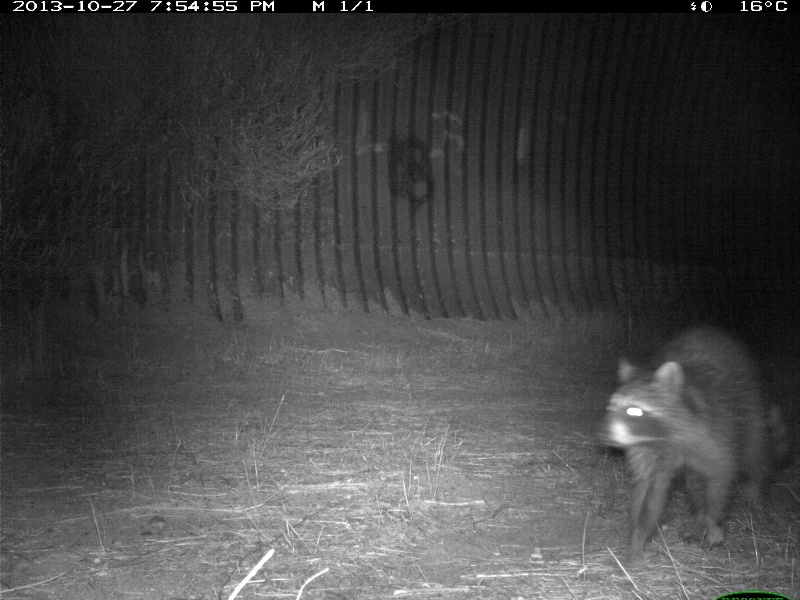raccoon: (595, 322, 790, 566)
